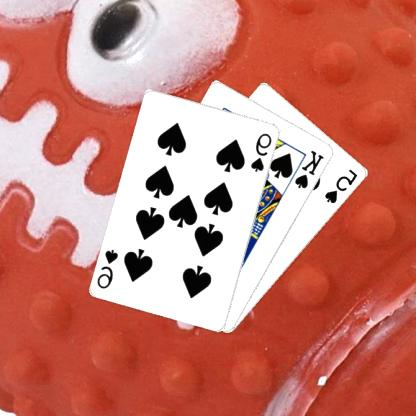5S: (324, 166, 361, 205)
9S: (96, 246, 122, 290), (250, 130, 275, 173)
KS: (294, 147, 328, 190)
